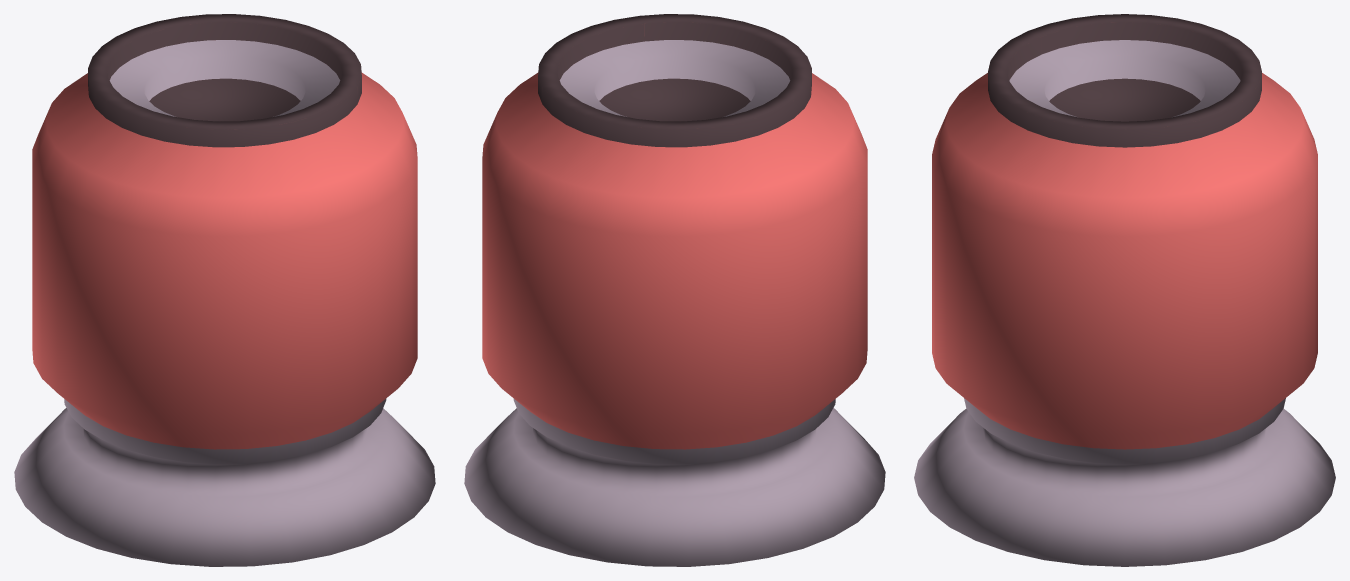
File: Cannon.fbx
3 views of the same model, side by side, from view 1: azimuth 30°, elevation 25°; view 2: azimuth 150°, elevation 25°; view 3: azimuth 270°, elevation 25° (orthographic).
Parts seen in each view (by area): view 1: Cylinder; view 2: Cylinder; view 3: Cylinder.
Part boxes in pixels (x1,y1,x2,y2): Cylinder: [14, 14, 435, 566]; Cylinder: [464, 14, 885, 566]; Cylinder: [914, 14, 1335, 566].
Bounding box in the file's own units: 437 × 464 × 437.
1 material, 1 textured.
